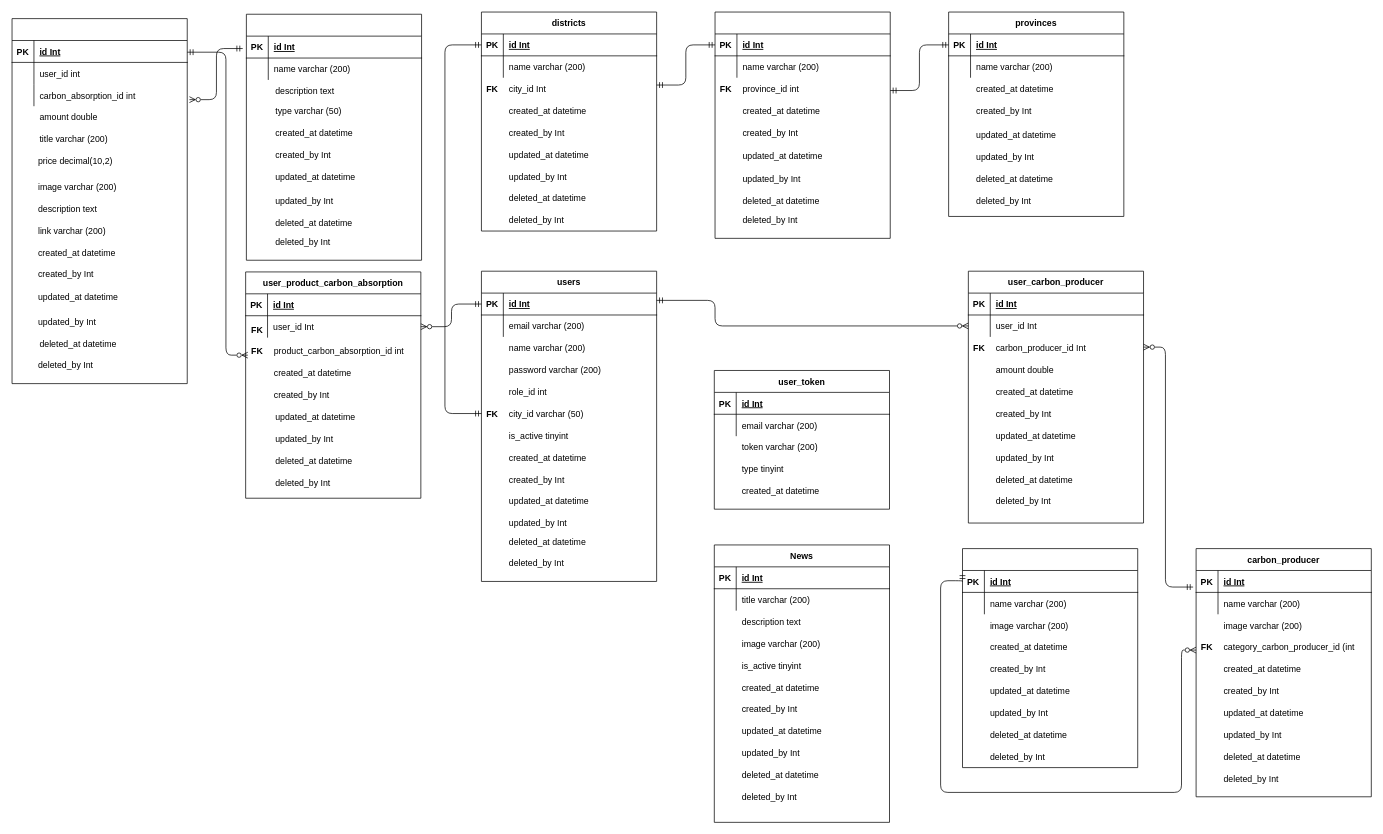
The diagram is 1383 pixels wide and 834 high, and some of its shapes have lost their labels. Each missing label, with the box of its shape:
categories_carbon_producer: (962, 548, 1138, 768)
category_carbon_absorption: (246, 14, 422, 260)
cities: (714, 11, 890, 238)
products_carbon_absorption: (11, 18, 187, 384)
